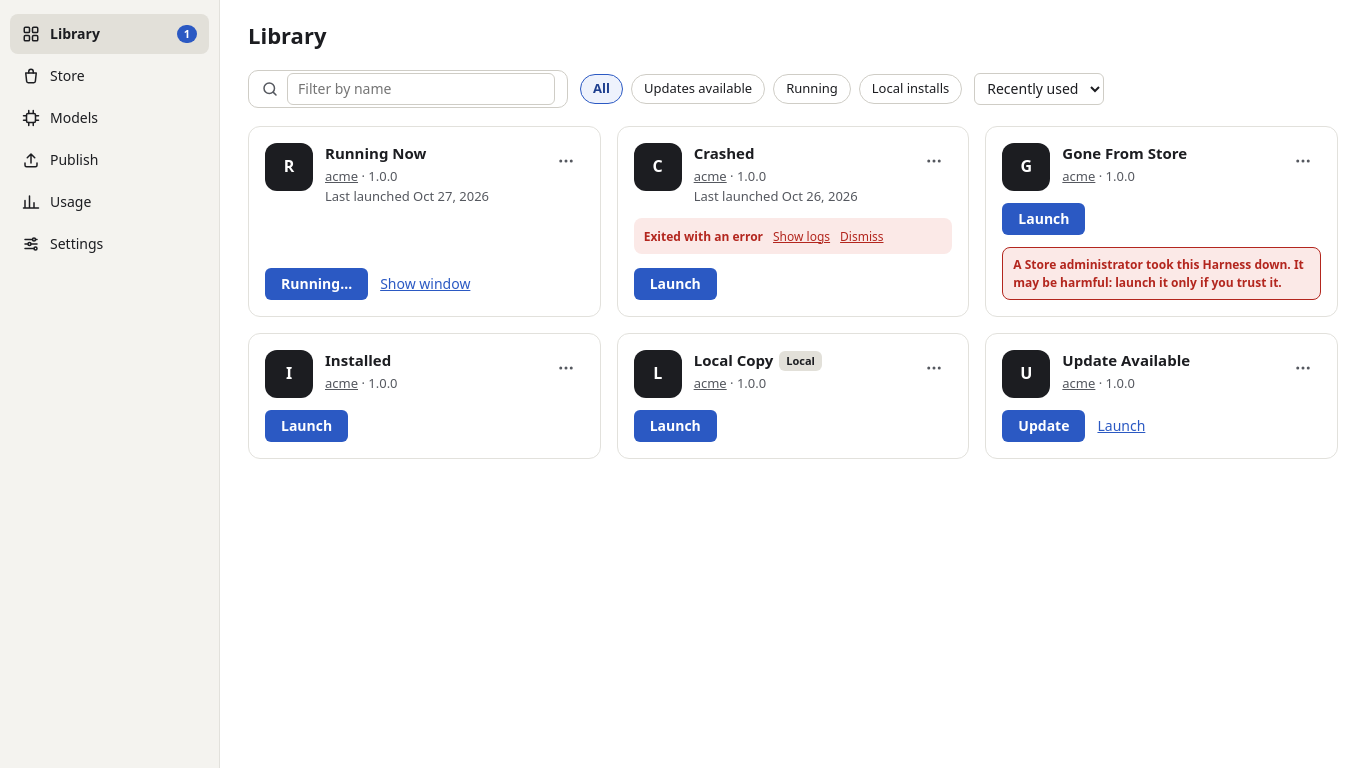
Test: sorting and filtering › says a view has no Harnesses, and Clear filters shows them all again
This screenshot has width=1366, height=768.
Expected: the element "Installed" is shown, [248,333,601,459]
Click the button "Local installs" at (911, 89), box [859,74,962,104]
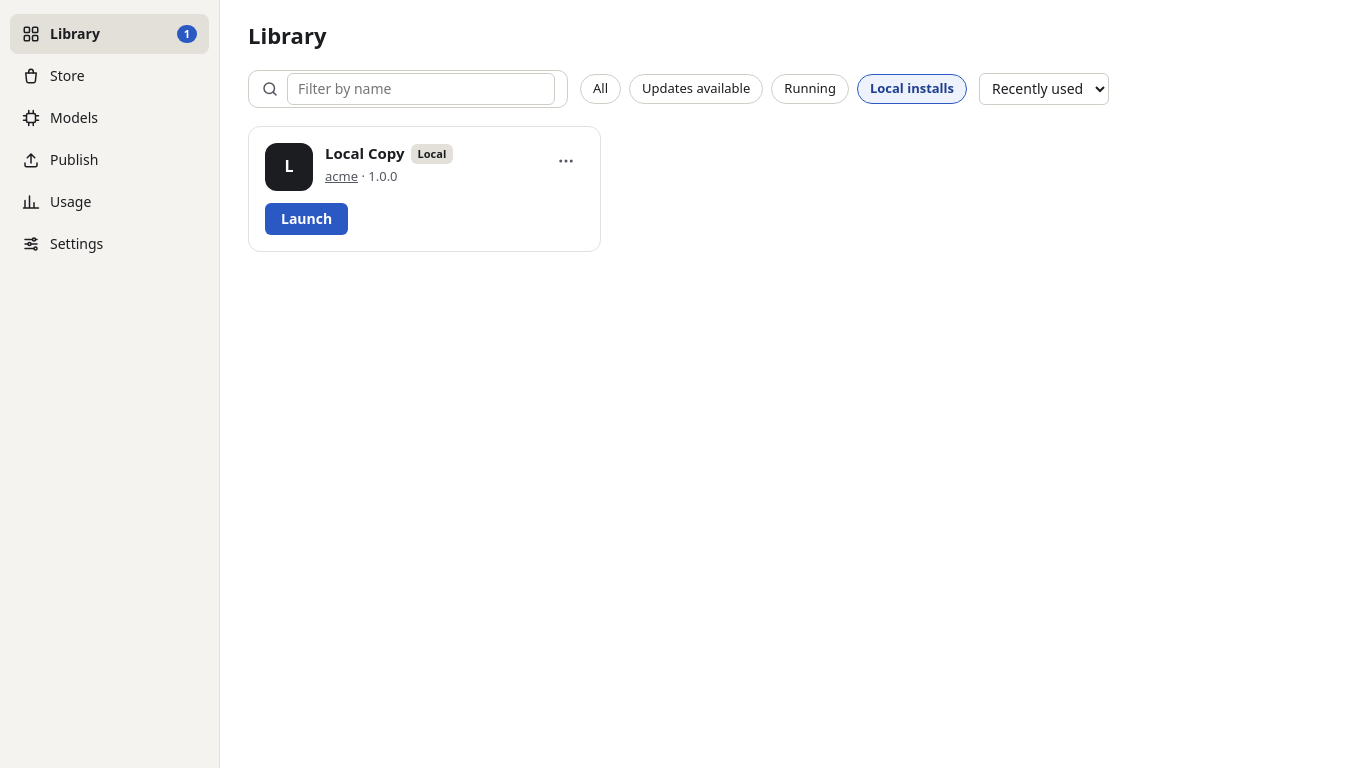
Type "nothing like it" into the search field labelled "Filter by name" at (421, 89), box [287,73,555,105]
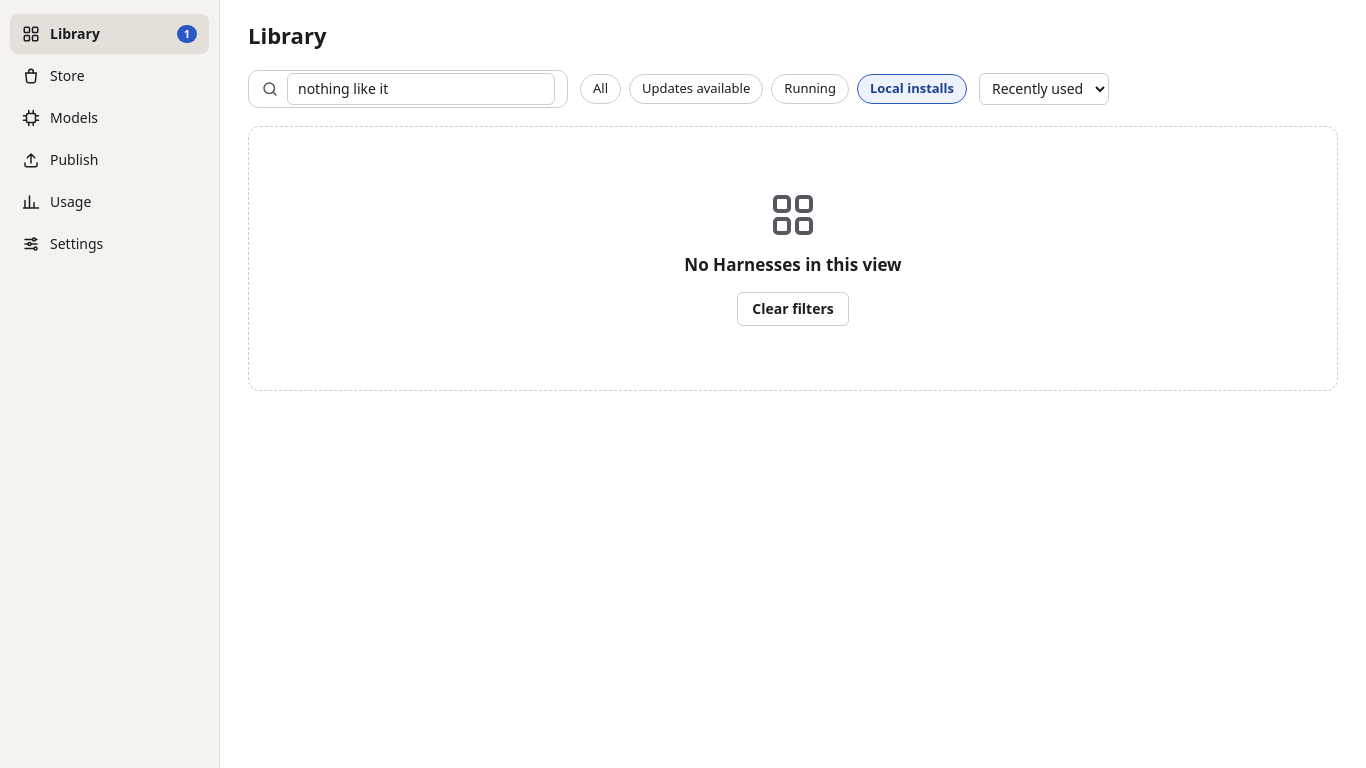
Now the text "No Harnesses in this view" is shown, box [684,253,902,278]
Click the button "Clear filters" at (793, 309), box [737,292,849,326]
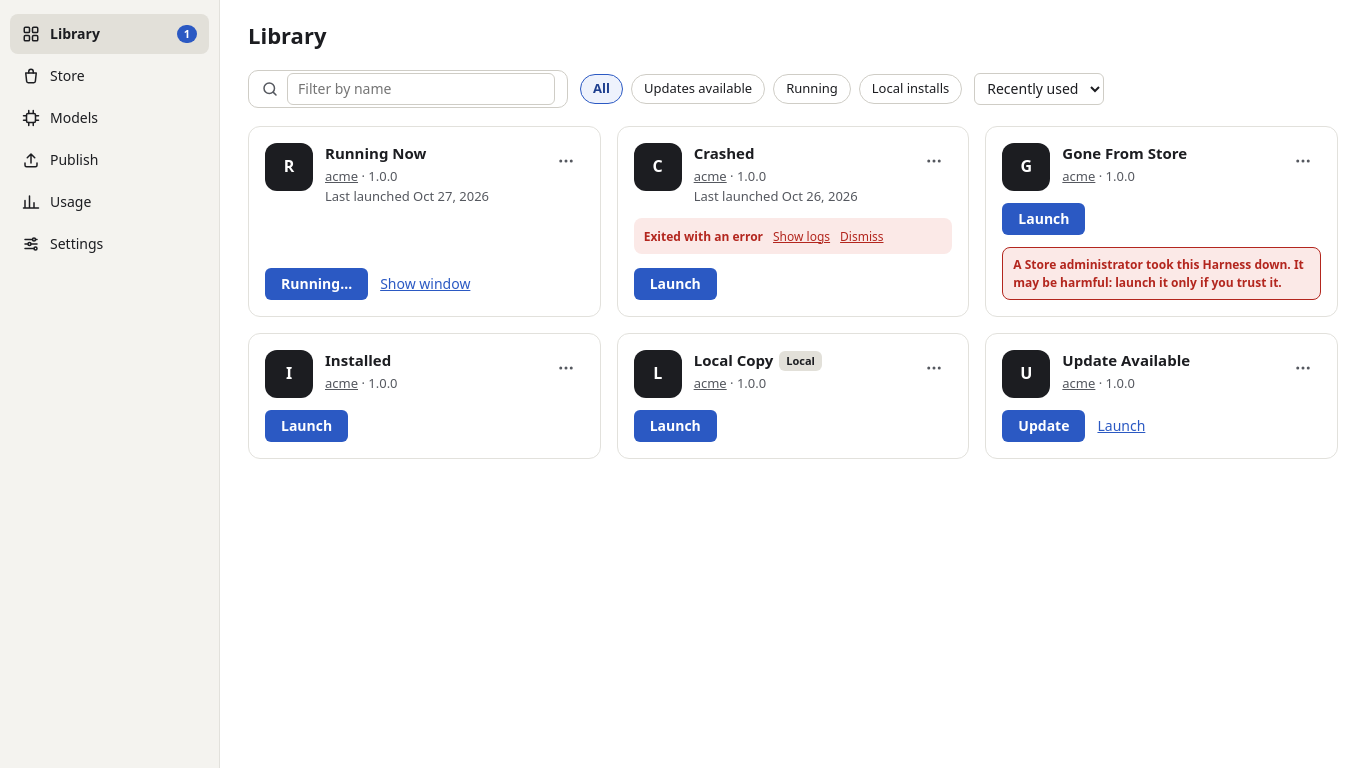
Now the search field labelled "Filter by name" is empty, box [287,73,555,105]
